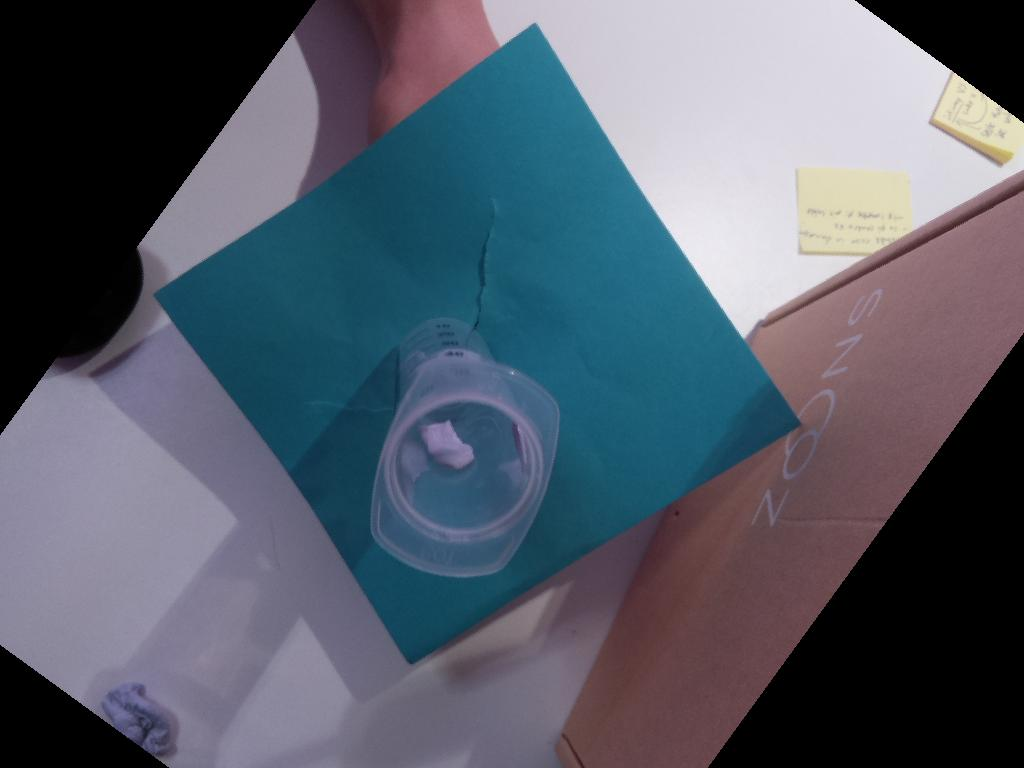dirty: (369, 357, 559, 577)
